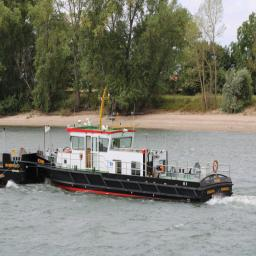tugboat: (26, 86, 236, 210)
